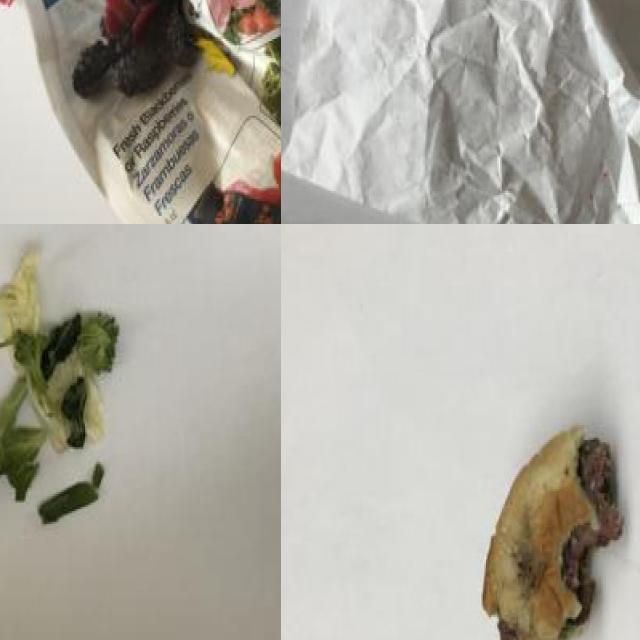compost: (0, 224, 153, 560), (458, 393, 640, 640)
paper: (293, 0, 640, 224), (0, 0, 281, 224)
